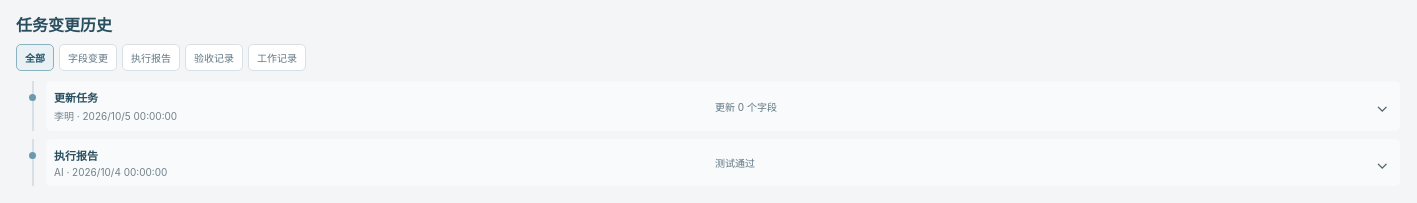
it: filters history by execution reports and keeps newest records first
This screenshot has width=1417, height=203.
Expected: the button with class "task-history-event" shows "更新任务", [46,81,1400,131]
Click the button "执行报告" at (151, 58), box [122,44,180,71]
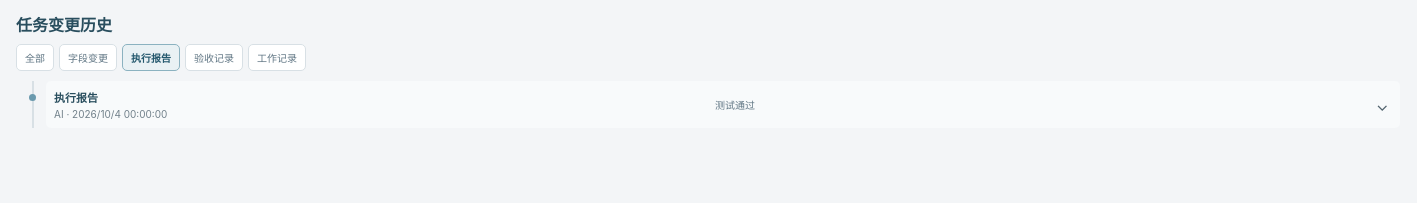
Expected: the text "测试通过" is shown, [715,99,755,111]
Result: the button "更新任务" is gone
